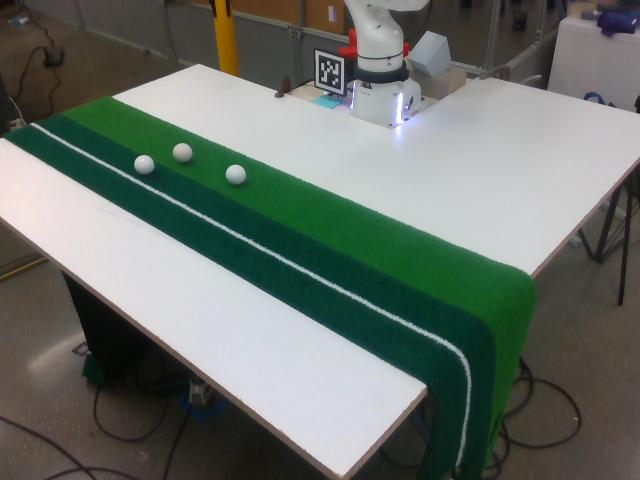golf_balls: (226, 164, 246, 185), (134, 155, 154, 174), (173, 143, 192, 162)
